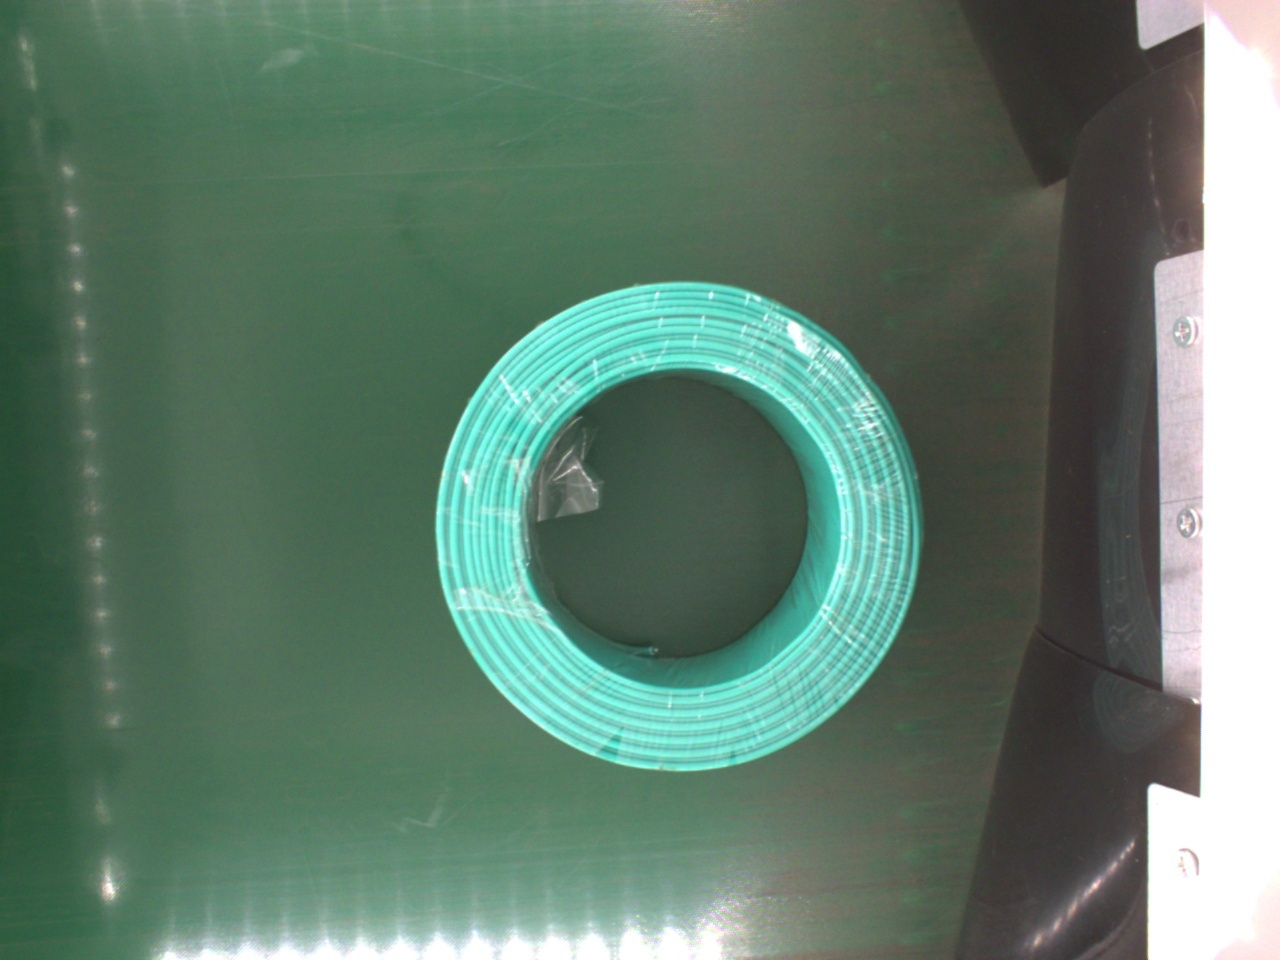green: (428, 283, 922, 781)
